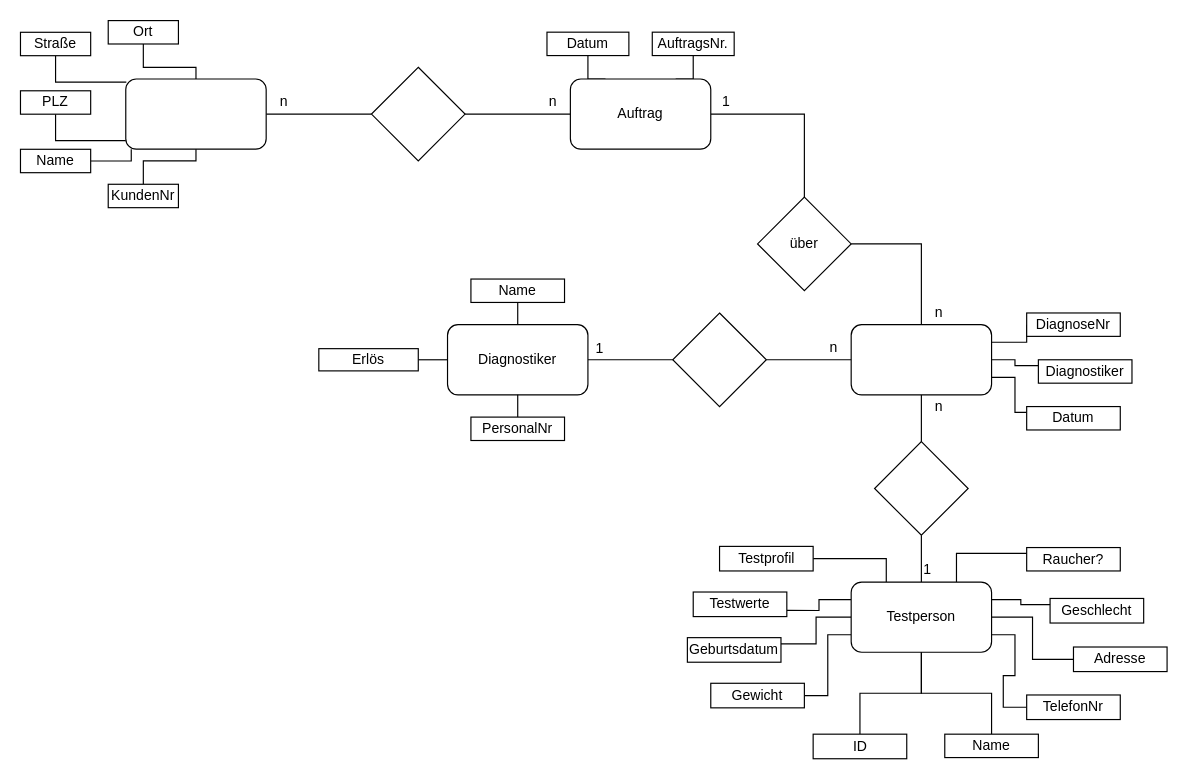
Image size: 1188x779. Some labels were removed from this diagram. Each missing label, with the box of its shape:
Diagnose: (850, 324, 992, 395)
erstellt: (672, 312, 766, 407)
erteilt: (370, 66, 465, 161)
Kunde/Auftraggeber: (125, 78, 266, 149)
von: (873, 441, 968, 535)
